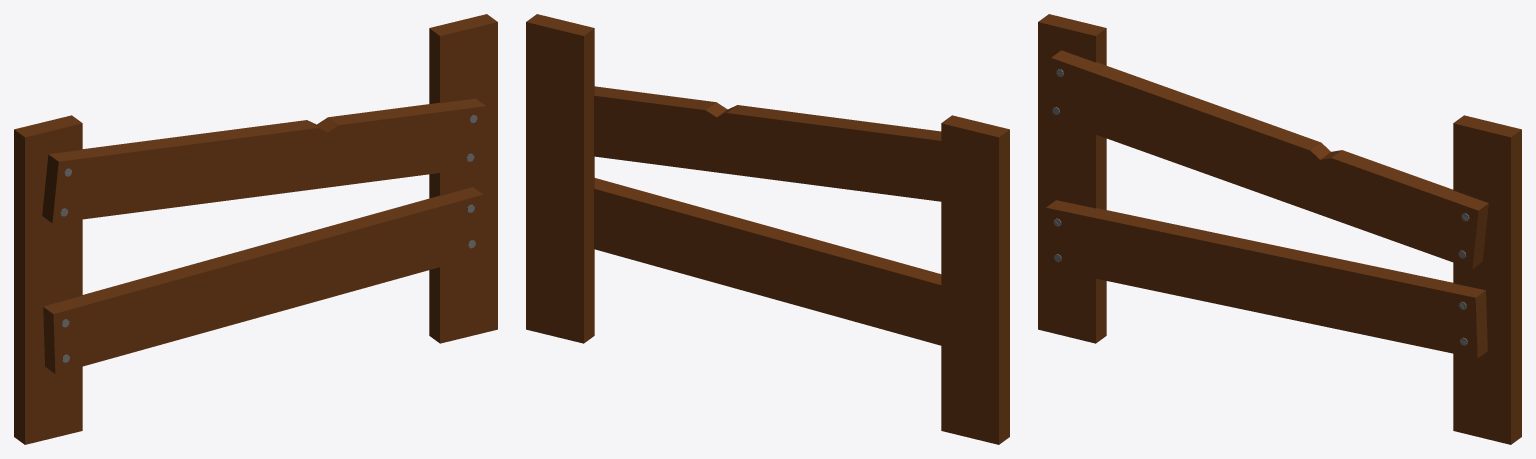
Rendered from fence1.glb.
3 views of the same model, side by side, from view 1: azimuth 30°, elevation 25°; view 2: azimuth 150°, elevation 25°; view 3: azimuth 330°, elevation 25° (orthographic).
Parts seen in each view (by area): view 1: Fence1; view 2: Fence1; view 3: Fence1.
Part boxes in pixels (x1,y1,x2,y2): Fence1: (14, 14, 497, 444); Fence1: (526, 14, 1009, 444); Fence1: (1038, 14, 1521, 444).
Bounding box in the file's own units: 3.51 × 2.18 × 0.2806.
Materials: 2 (1 with a texture image).
